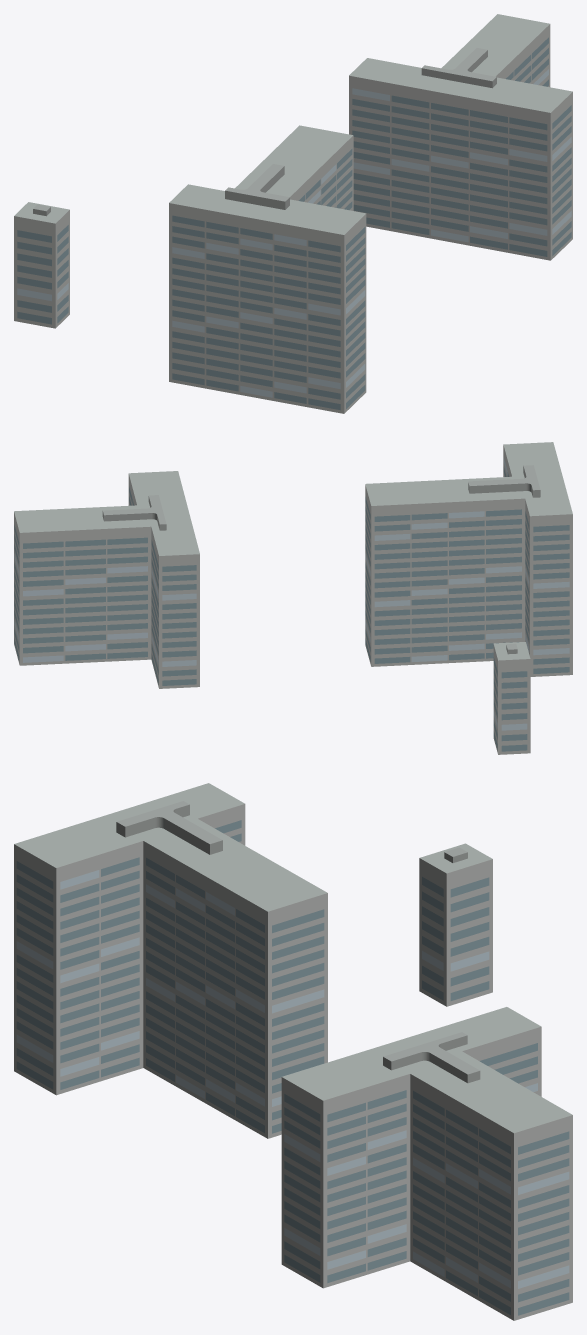
The model's file is apt-a12283601.glb.
3 renders of one model, top to bottom at view 1: azimuth 30°, elevation 25°; view 2: azimuth 150°, elevation 25°; view 3: azimuth 270°, elevation 25°, orthographic. The views are drawn at different scales.
Parts seen in each view (by area): view 1: apt-a12283601; view 2: apt-a12283601; view 3: apt-a12283601.
Part boxes in pixels (x1,y1,x2,y2): apt-a12283601: [14, 14, 572, 413]; apt-a12283601: [14, 442, 572, 754]; apt-a12283601: [14, 783, 572, 1320].
Bounding box in the file's own units: 143 × 46 × 97.97.
